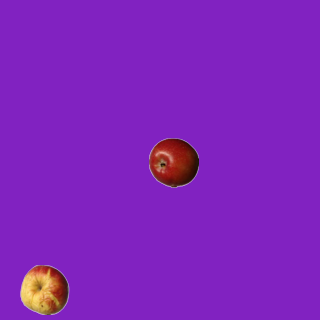Apple Braeburn: (148, 137, 198, 187)
Apple Red Yellow 1: (19, 264, 69, 314)
